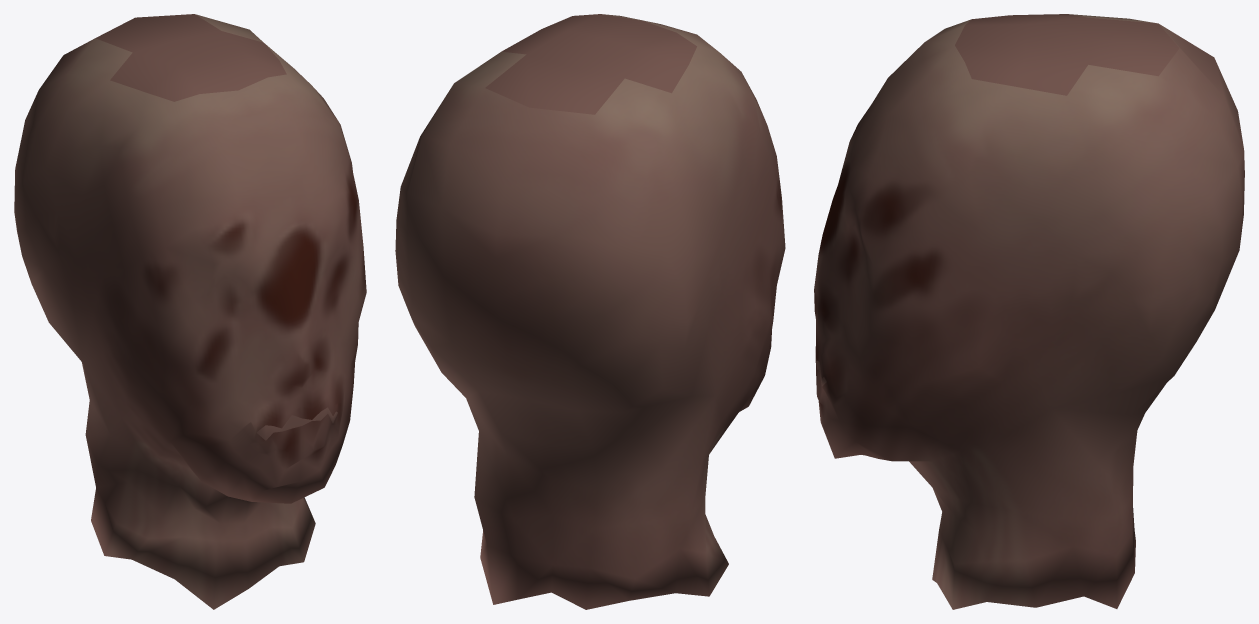
The model's file is Head_capsule.fbx.
3 renders of one model, left to right at view 1: azimuth 30°, elevation 25°; view 2: azimuth 150°, elevation 25°; view 3: azimuth 270°, elevation 25°, orthographic. The views are drawn at different scales.
Visible parts, largest first — view 1: Head_capsule; view 2: Head_capsule; view 3: Head_capsule.
Part boxes in pixels (x1,y1,x2,y2): Head_capsule: (14,14,366,609); Head_capsule: (395,14,785,609); Head_capsule: (814,14,1244,609).
Size of the model in its own units: 33.94 by 63.16 by 44.23.
1 material, 1 textured.
